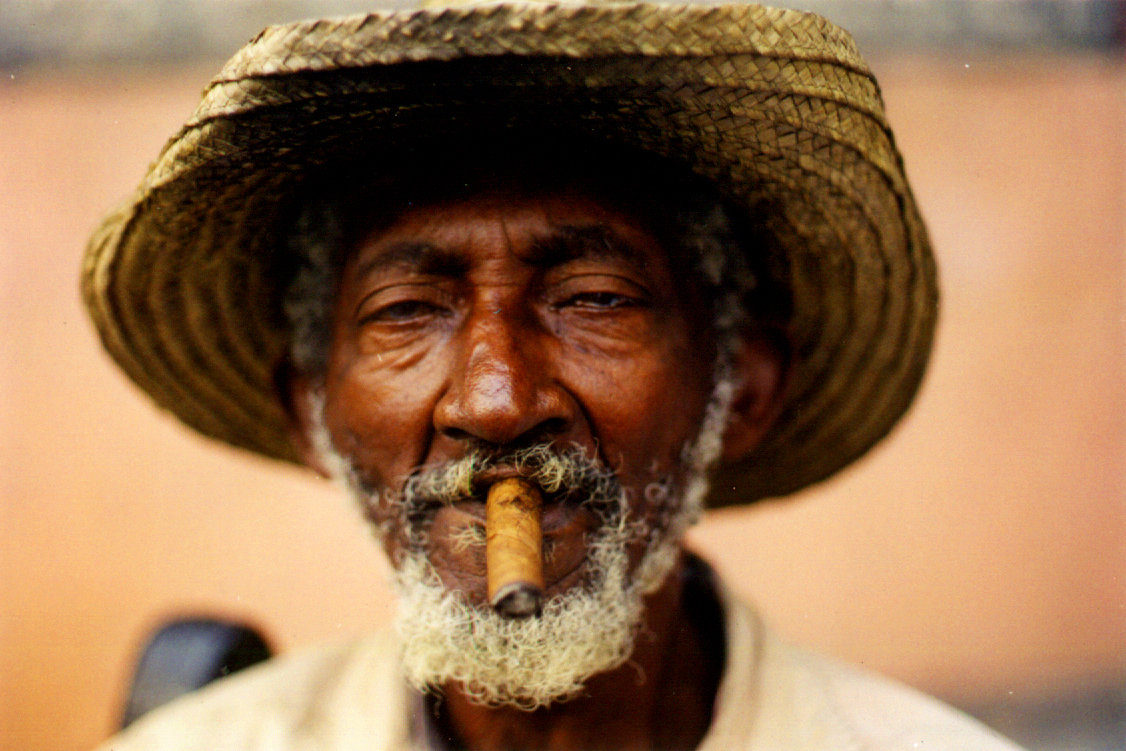cigarette: (479, 482, 548, 629)
